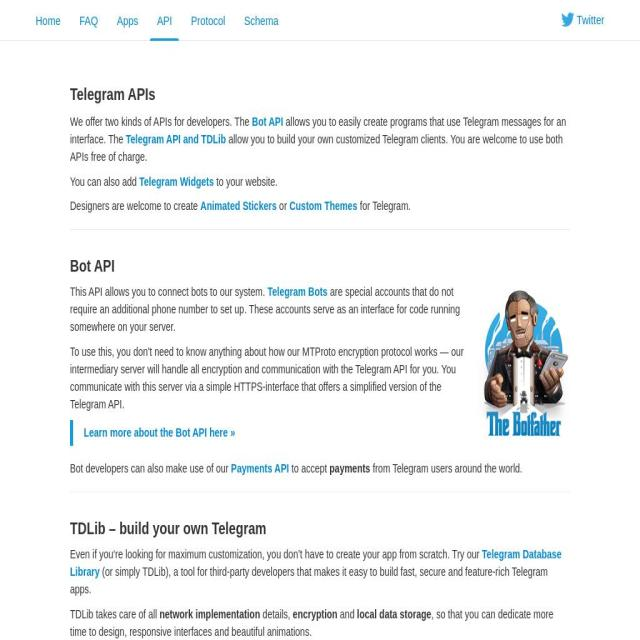button: (551, 0, 613, 38), (181, 0, 235, 40), (234, 0, 288, 40), (26, 0, 71, 40), (108, 0, 148, 40), (70, 0, 108, 40), (147, 0, 182, 40)
heading: (70, 85, 570, 103), (70, 519, 266, 538), (70, 257, 114, 275)
image: (476, 283, 570, 446), (560, 12, 574, 26)
link: (70, 548, 562, 578), (84, 426, 235, 439), (126, 132, 227, 146), (200, 199, 277, 213), (138, 174, 214, 188), (288, 199, 358, 213), (267, 285, 327, 298), (230, 462, 288, 475), (252, 115, 284, 128)
text: (70, 342, 570, 413), (70, 285, 460, 333), (70, 132, 562, 164), (70, 115, 566, 146), (70, 607, 554, 638), (70, 565, 548, 596), (70, 547, 482, 561), (70, 285, 268, 298), (70, 115, 252, 128), (70, 462, 231, 475), (370, 462, 523, 475), (70, 199, 201, 213), (160, 607, 260, 621), (70, 607, 159, 621), (357, 607, 432, 621), (70, 174, 139, 188), (214, 174, 278, 188), (357, 199, 411, 213), (293, 607, 338, 621), (289, 462, 330, 475), (330, 462, 370, 475), (260, 607, 293, 621), (574, 12, 604, 26), (337, 607, 357, 621), (276, 199, 290, 213)
